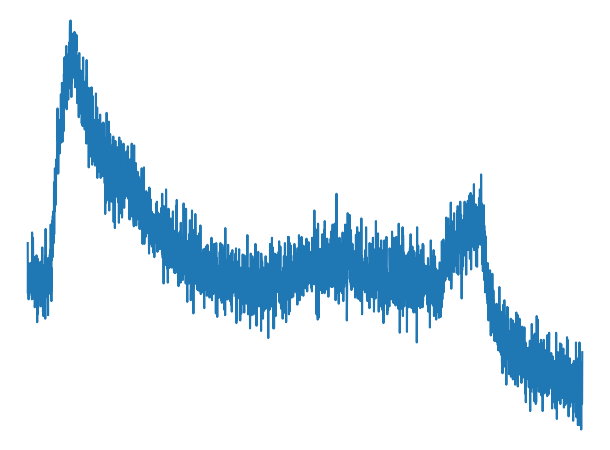decrease: (466, 165, 506, 288)
increase: (39, 206, 63, 326)
